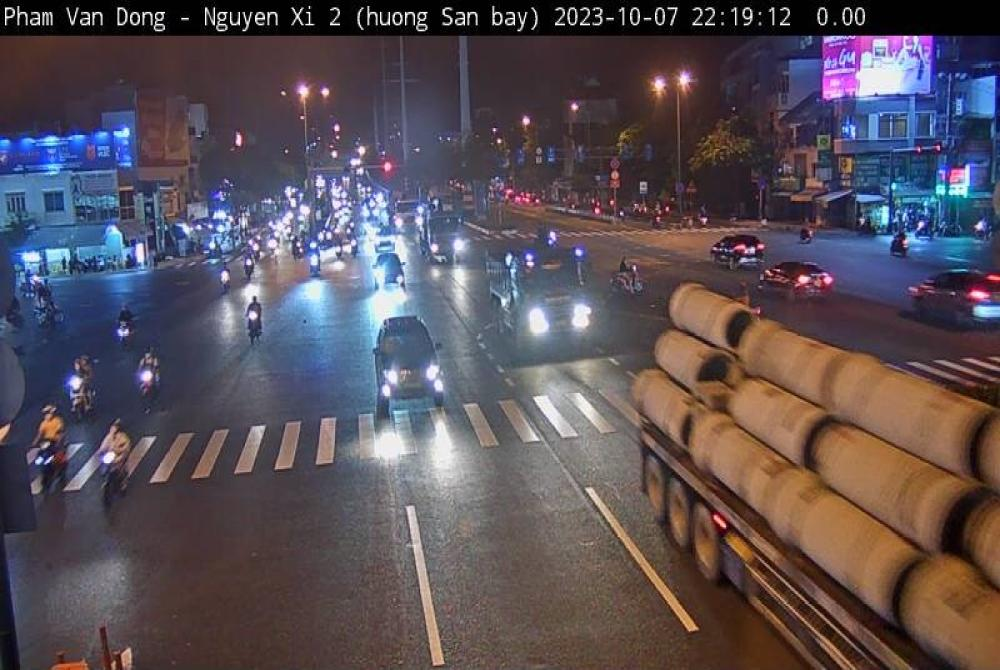car: (464, 232, 606, 402), (360, 306, 470, 428), (904, 252, 1000, 373), (359, 247, 432, 317), (758, 253, 838, 310), (707, 224, 769, 276)
motorbike: (86, 435, 141, 516), (22, 427, 78, 498), (211, 302, 282, 346), (212, 262, 245, 298)
